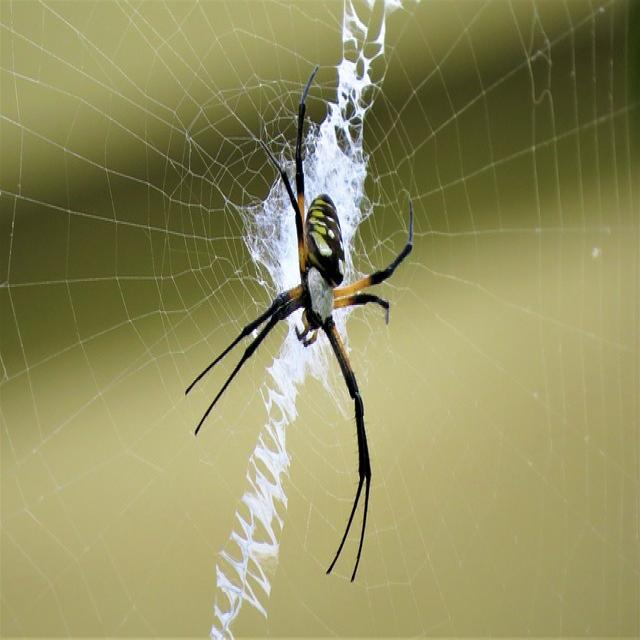spyder: (210, 117, 411, 526)
